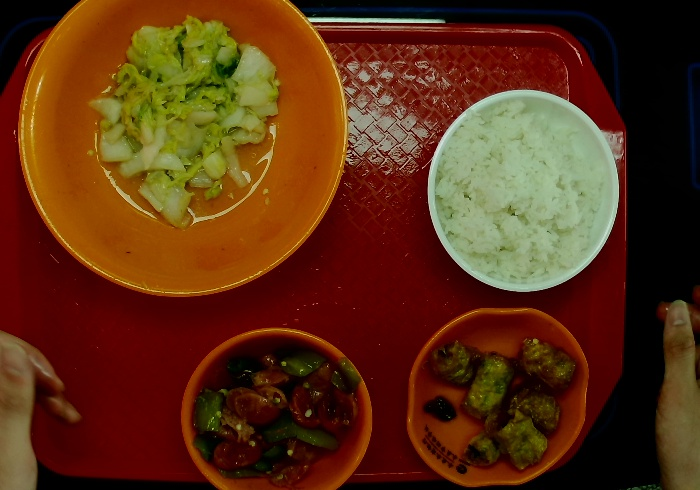YKMZ-Fan_Wan: (420, 86, 628, 302)
YKMZ-Ju_Se_Ao_Bian_Wan: (399, 303, 593, 490)
YKMZ-Ju_Se_Tang_Wan: (14, 1, 354, 304)
YKMZ-Ju_Se_Yuan_Wan: (174, 321, 379, 490)
